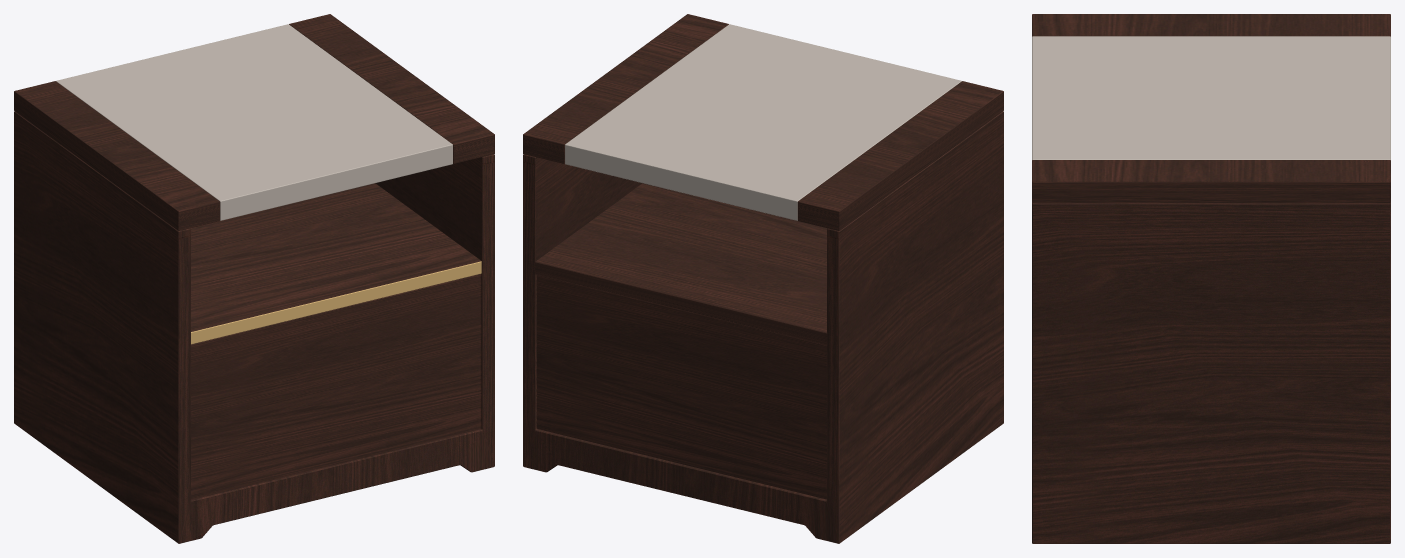
3 renders of one model, left to right at view 1: azimuth 30°, elevation 25°; view 2: azimuth 150°, elevation 25°; view 3: azimuth 270°, elevation 25°, orthographic. The views are drawn at different scales.
Visible parts, largest first — view 1: MD_CT_AC_19_N001_MW_C_1_HM, MD_CT_AC_19_N001_QL_C_1_H, MD_CT_AC_19_N001_QL_C_2_H; view 2: MD_CT_AC_19_N001_MW_C_1_HM, MD_CT_AC_19_N001_QL_C_1_H; view 3: MD_CT_AC_19_N001_MW_C_1_HM, MD_CT_AC_19_N001_QL_C_1_H.
Boxes of the visible parts, x1,y1,x2,y2 form: MD_CT_AC_19_N001_MW_C_1_HM: [14, 14, 494, 543]; MD_CT_AC_19_N001_QL_C_1_H: [56, 24, 452, 220]; MD_CT_AC_19_N001_QL_C_2_H: [191, 261, 481, 344]; MD_CT_AC_19_N001_MW_C_1_HM: [523, 14, 1003, 543]; MD_CT_AC_19_N001_QL_C_1_H: [565, 24, 961, 220]; MD_CT_AC_19_N001_MW_C_1_HM: [1032, 14, 1390, 543]; MD_CT_AC_19_N001_QL_C_1_H: [1032, 36, 1390, 160].
Size of the model in its own units: 499 by 502 by 450.
